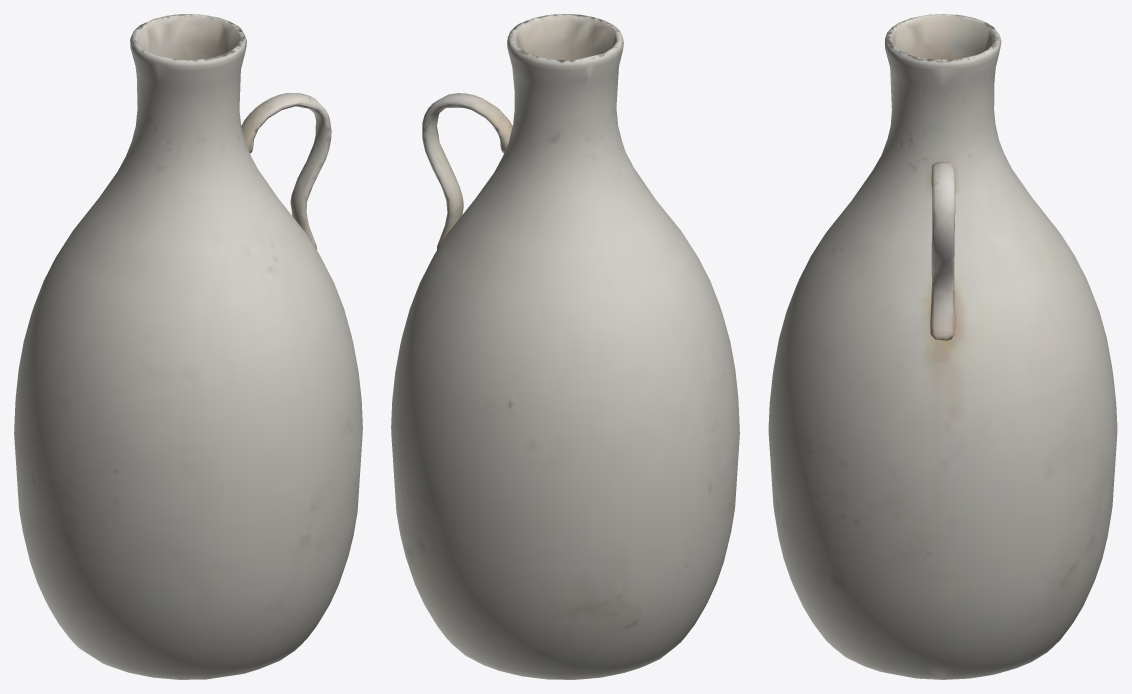
Rendered from vase-jug.glb.
3 views of the same model, side by side, from view 1: azimuth 30°, elevation 25°; view 2: azimuth 150°, elevation 25°; view 3: azimuth 270°, elevation 25° (orthographic).
Parts seen in each view (by area): view 1: ceramic_vase_04; view 2: ceramic_vase_04; view 3: ceramic_vase_04.
Part boxes in pixels (<box>): ceramic_vase_04: <box>14,14,362,679</box>; ceramic_vase_04: <box>391,14,739,679</box>; ceramic_vase_04: <box>768,14,1117,679</box>.
Bounding box in the file's own units: 0.1811 × 0.3419 × 0.1811.
1 material, 1 textured.
